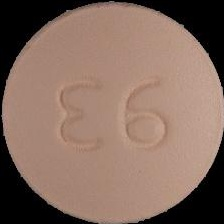45802-571: (0, 0, 224, 224)
